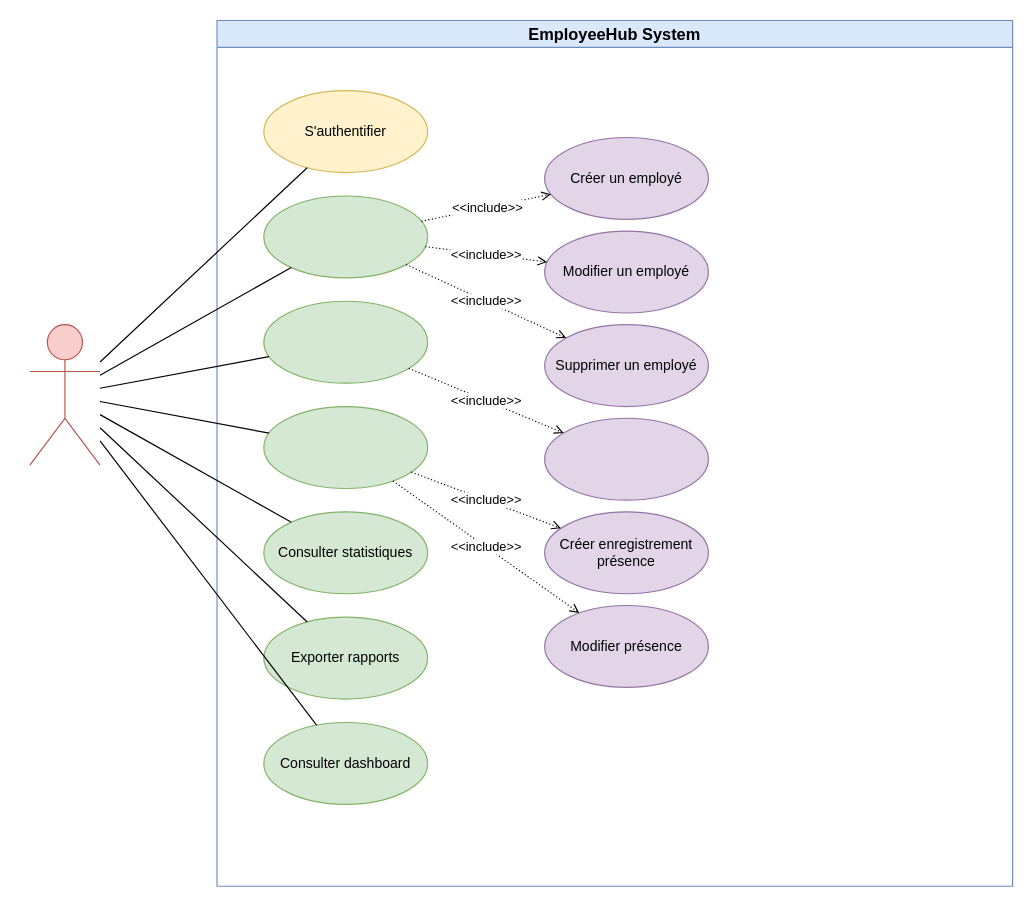
The diagram is 1033 pixels wide and 907 high, and some of its shapes have lost their labels. Each missing label, with the centre of its shape:
Activer/Désactiver utilisateur: (625,458)
Administrateur: (64,394)
Gérer les employés: (345,236)
Gérer les présences: (345,446)
Gérer les utilisateurs: (345,341)
